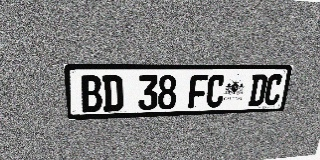3: (138, 75, 158, 110)
8: (158, 75, 178, 110)
B: (80, 75, 103, 113)
C: (205, 75, 226, 108), (263, 74, 284, 106)
D: (102, 75, 123, 112), (247, 74, 268, 106)
F: (188, 75, 208, 109)
